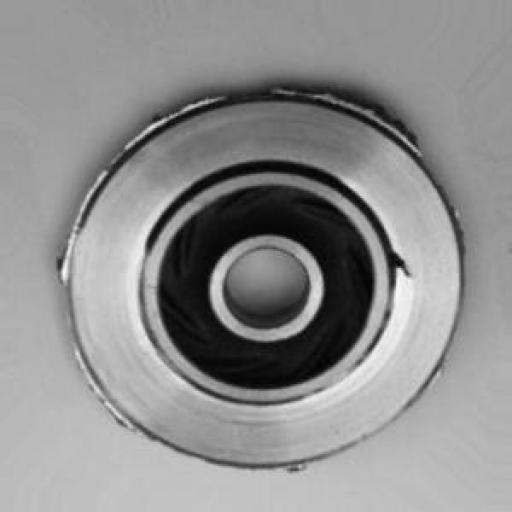defect: (47, 57, 497, 494)
